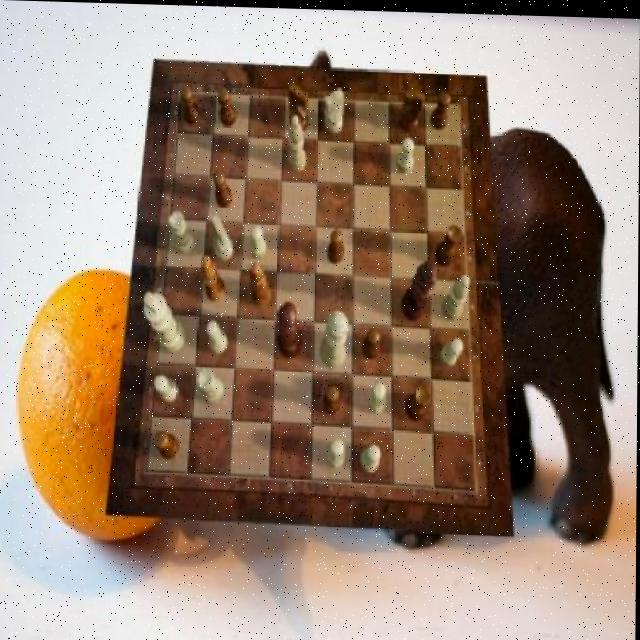bishop: (202, 254, 226, 301), (250, 261, 271, 306)
black-bishop: (401, 257, 437, 319)
black-king: (288, 82, 309, 132), (400, 88, 424, 131)
black-knight: (430, 90, 451, 129), (180, 86, 201, 125), (213, 169, 233, 206), (156, 431, 181, 460), (219, 87, 236, 125), (328, 226, 345, 261), (323, 383, 342, 413), (362, 327, 379, 358)
black-pawn: (278, 299, 303, 357)
black-queen: (436, 221, 463, 264), (405, 383, 430, 420)
black-rook: (441, 272, 469, 318), (288, 115, 306, 171)
white-bishop: (143, 291, 186, 352)
white-king: (211, 214, 234, 260), (322, 86, 343, 132)
white-knight: (206, 320, 228, 353), (439, 337, 463, 366), (397, 135, 415, 172), (153, 375, 178, 401), (249, 224, 266, 259), (369, 379, 387, 412), (360, 442, 380, 470), (326, 438, 345, 466)
white-pawn: (319, 309, 349, 367)
white-queen: (168, 210, 194, 253), (198, 366, 224, 403)
